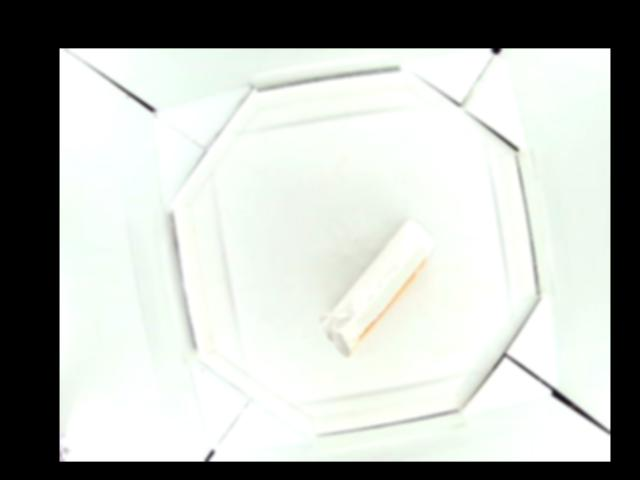China: (322, 220, 438, 357)
